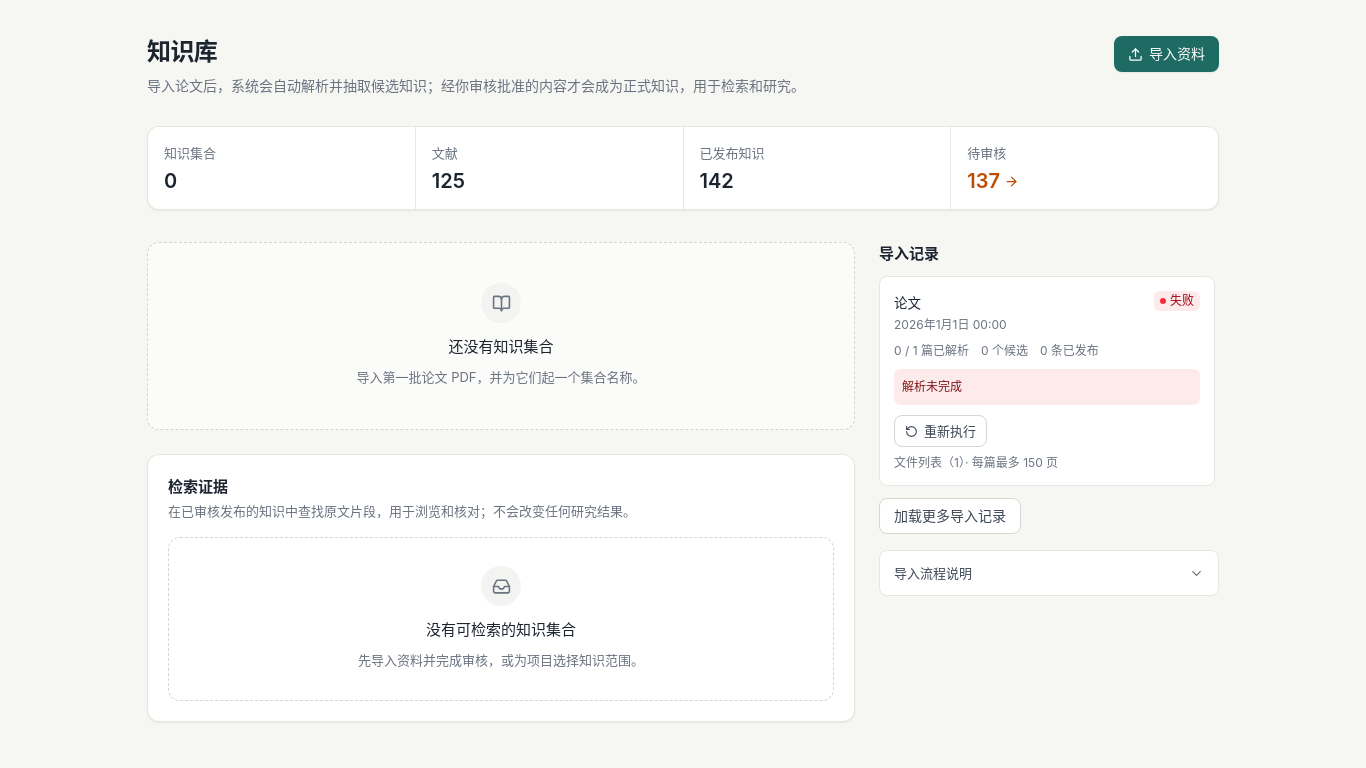
Test: browser acceptance states › loads older ingestion records without changing history-wide statistics
Click the button "加载更多导入记录" at coordinates (950, 516), box top-left (879, 498), bottom-right (1021, 534)
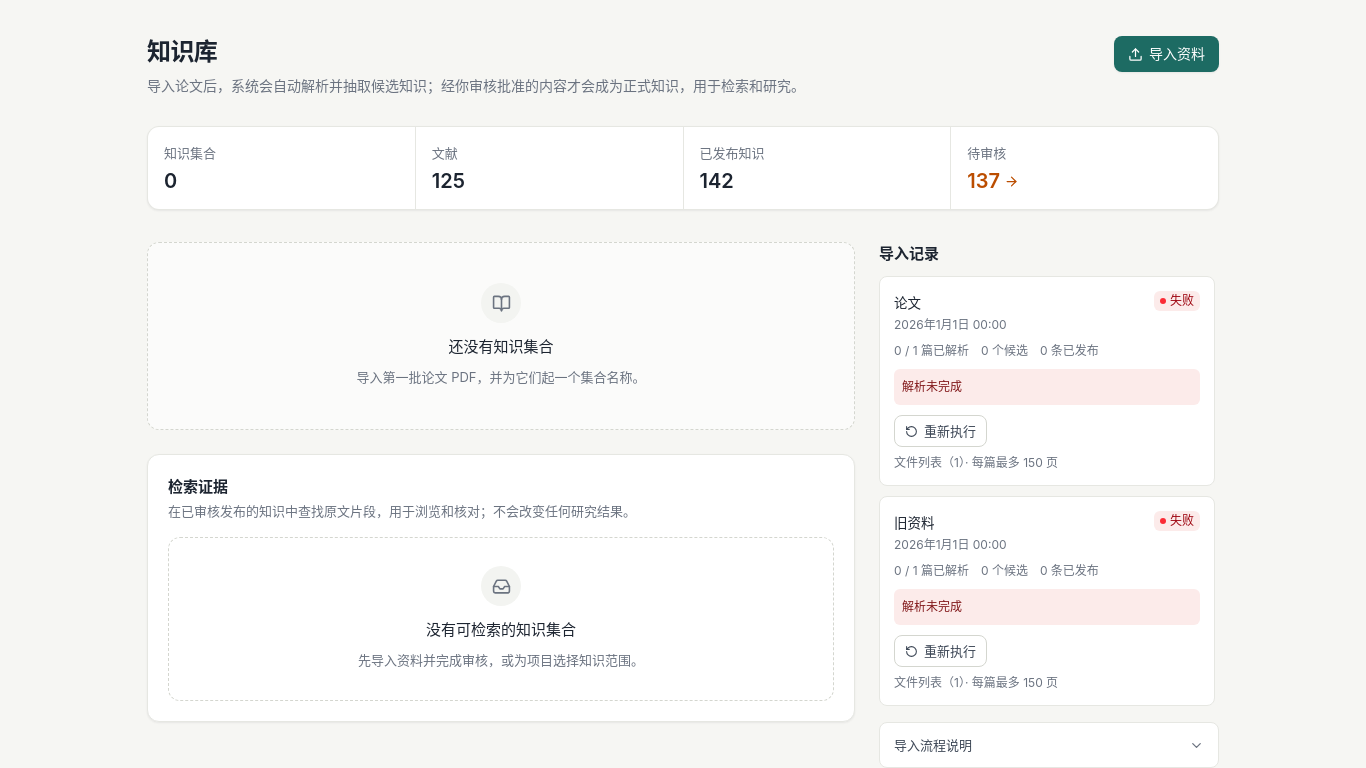
Expected: the text "125" is shown, top-left (432, 169), bottom-right (465, 193)
Now the text "旧资料" is shown, box top-left (894, 515), bottom-right (934, 531)
Now the button "加载更多导入记录" is gone
